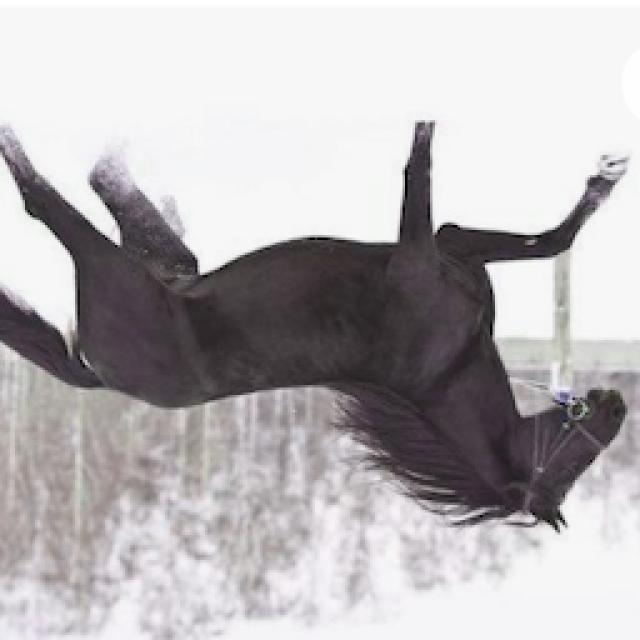Horse: (0, 115, 638, 540)
